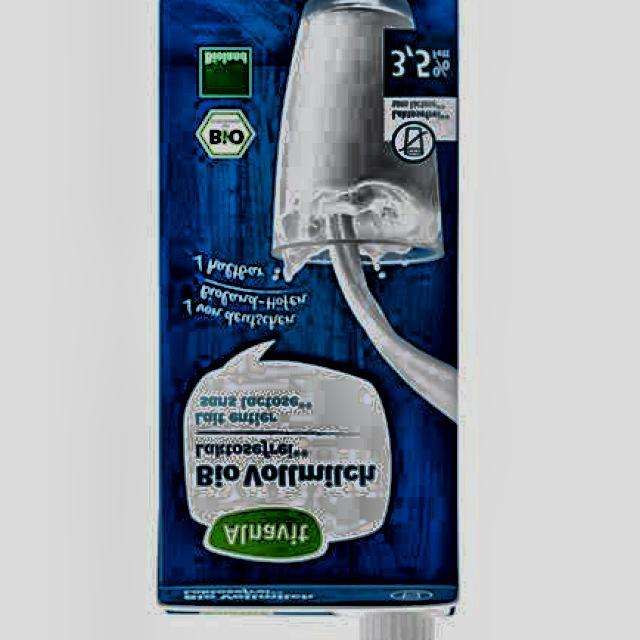cardboard: (156, 0, 460, 630)
